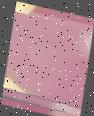scratch: (1, 7, 94, 115)
